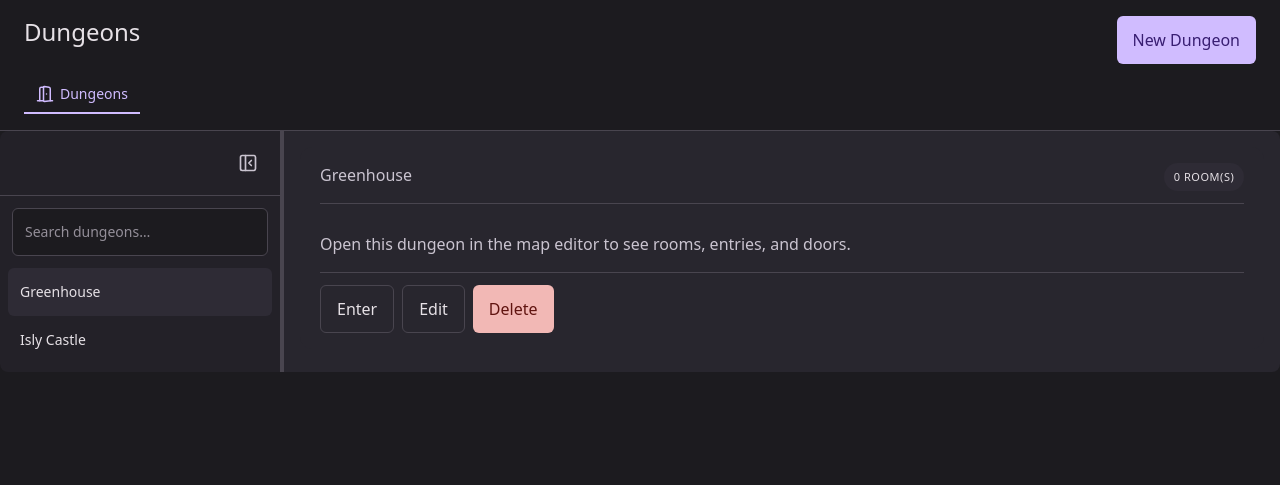
Test case: DungeonBrowserPage › filtering to no matches shows filtered-empty state
This screenshot has width=1280, height=485.
Check: the heading "Greenhouse" is shown, box [320, 163, 412, 187]
Type "zzz-no-match" into the search field at (140, 232), box [12, 208, 268, 256]
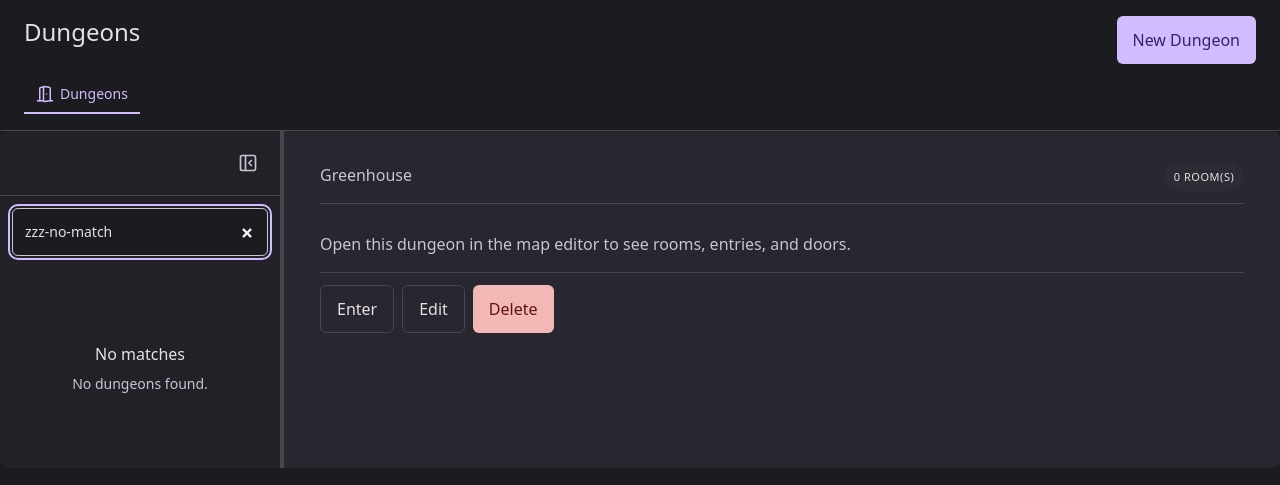
Check: the text "No dungeons found." is shown, box [72, 374, 208, 394]
